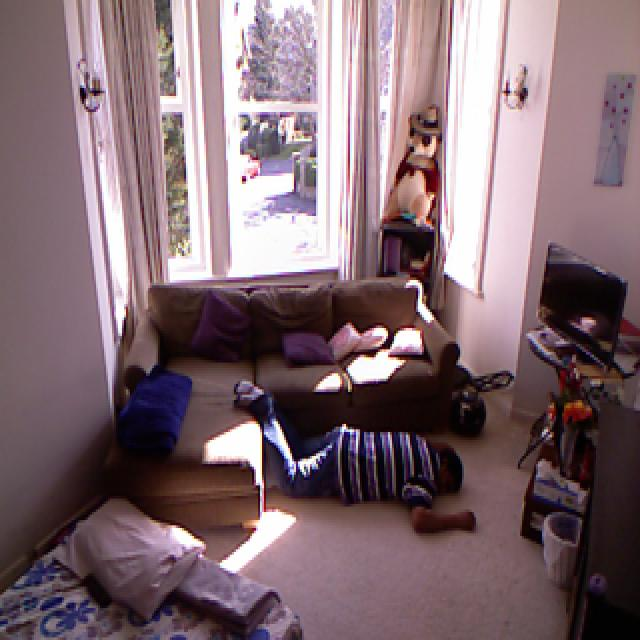lying: (233, 377, 480, 534)
